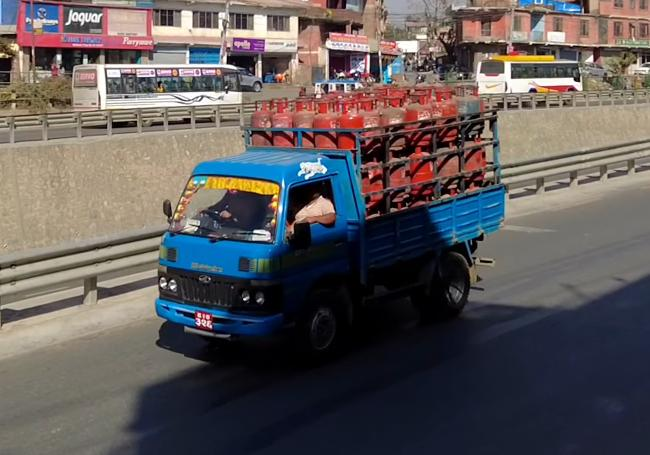bus: (59, 50, 250, 134), (471, 46, 586, 105)
mini_truck: (144, 79, 517, 357)
